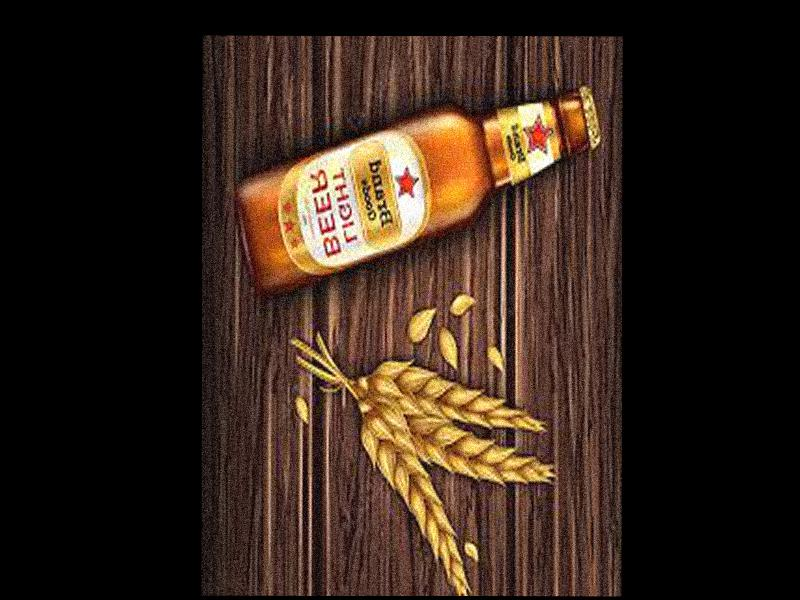Beer: (237, 82, 601, 294)
